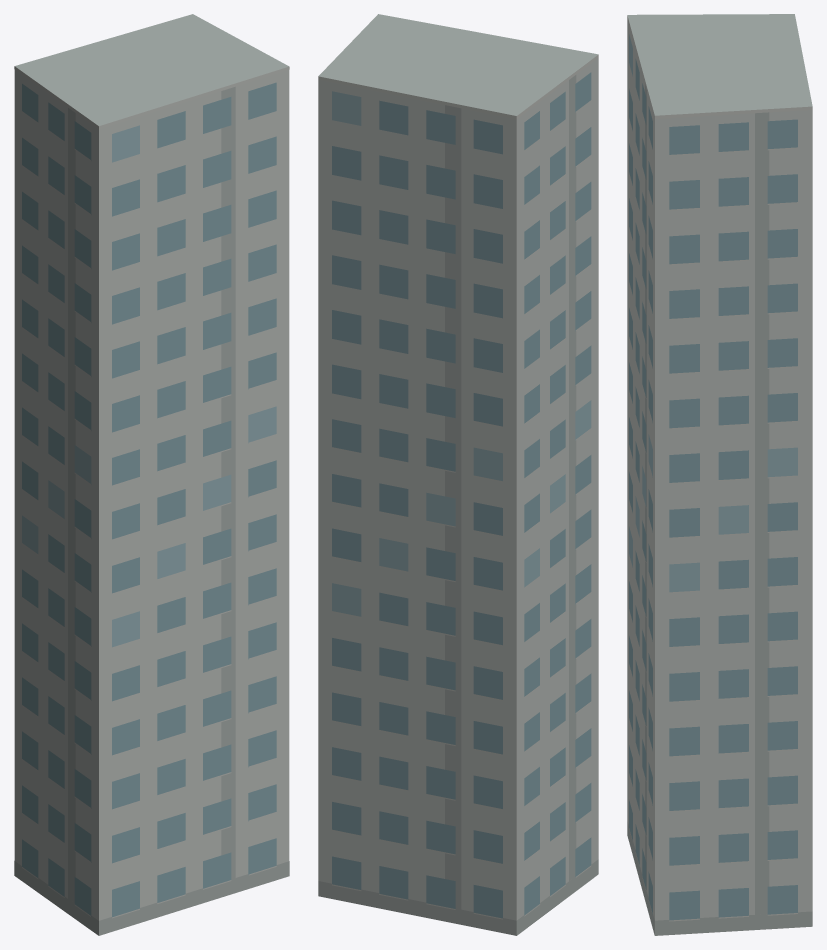
File: residential-c4f4310e-fae2-42f5-9b86-63912d8b7f00.glb
3 renders of one model, left to right at view 1: azimuth 30°, elevation 25°; view 2: azimuth 150°, elevation 25°; view 3: azimuth 270°, elevation 25°, orthographic.
Parts seen in each view (by area): view 1: residential-c4f4310e-fae2-42f5-9b86-63912d8b7f00.tmp; view 2: residential-c4f4310e-fae2-42f5-9b86-63912d8b7f00.tmp; view 3: residential-c4f4310e-fae2-42f5-9b86-63912d8b7f00.tmp.
Boxes of the visible parts, box(x1,y1,x2,y2) form: residential-c4f4310e-fae2-42f5-9b86-63912d8b7f00.tmp: box(14, 14, 289, 935); residential-c4f4310e-fae2-42f5-9b86-63912d8b7f00.tmp: box(318, 14, 598, 935); residential-c4f4310e-fae2-42f5-9b86-63912d8b7f00.tmp: box(627, 14, 812, 935).
Size of the model in its own units: 15.97 by 60 by 12.3.
